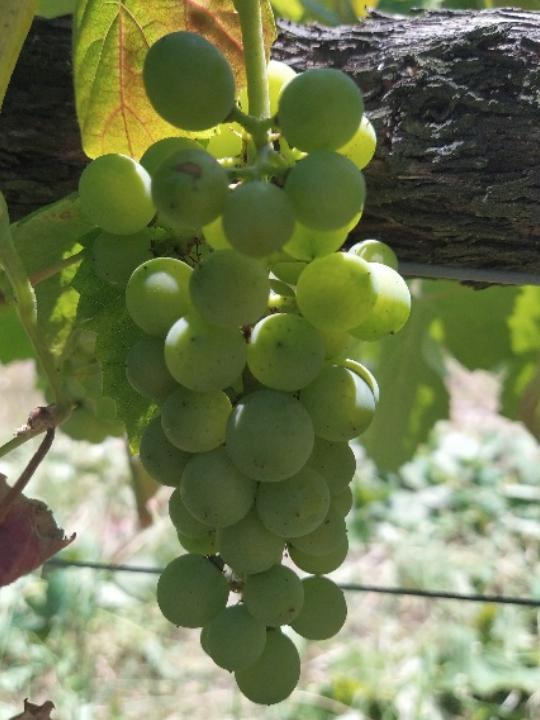grape: (78, 27, 414, 706)
